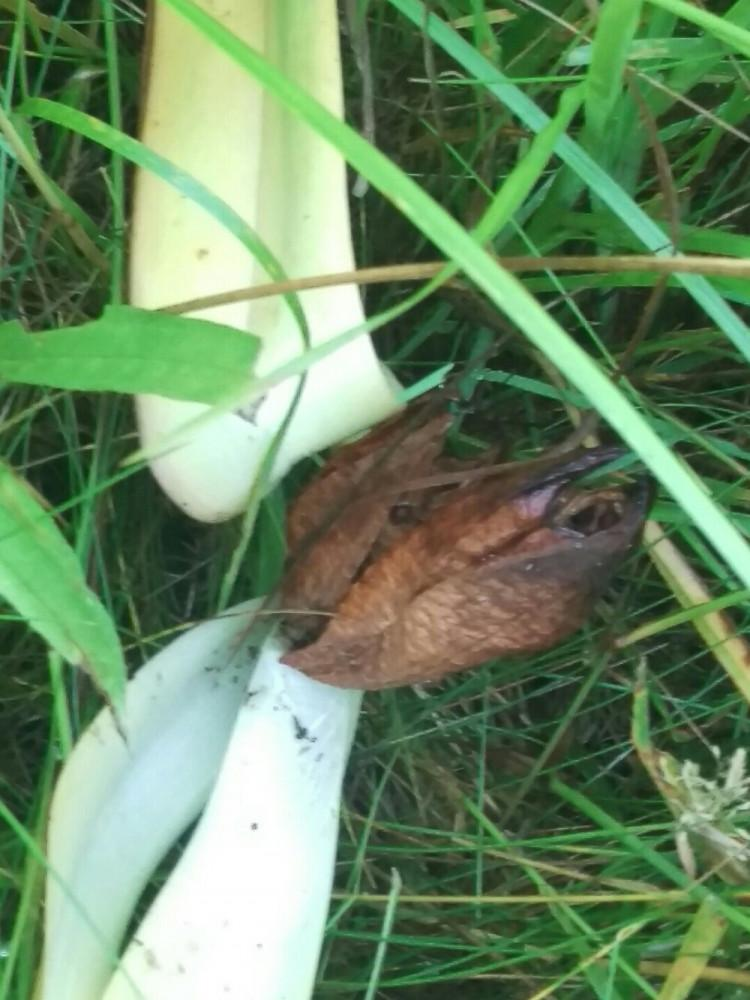Colchicum autumnale L: (117, 151, 671, 900)
